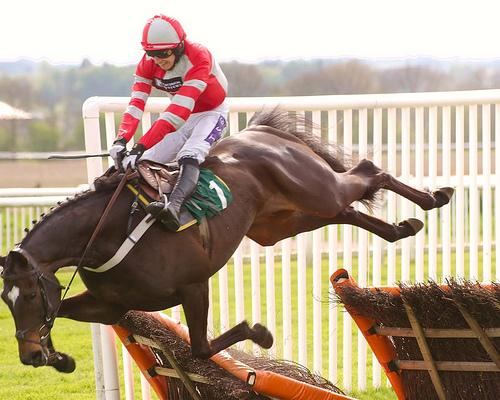person: (109, 15, 230, 233)
